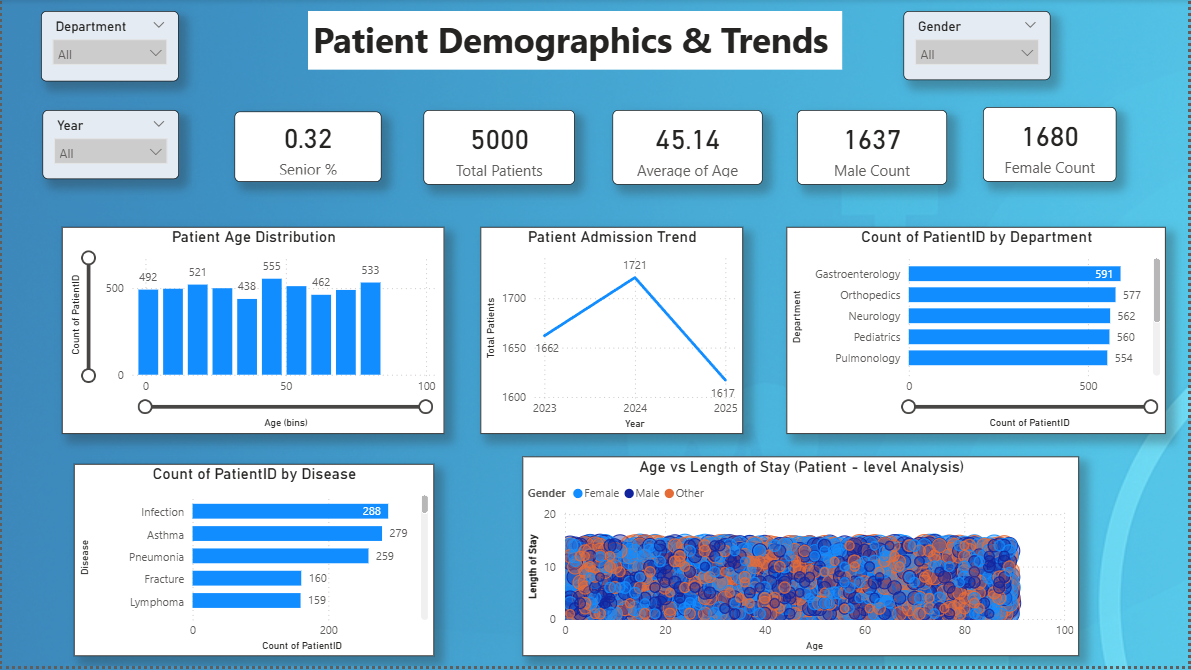

This screenshot's page, from the dashboard's own definition file:
{"tool":"powerbi","page":{"name":"Patient Demographics & Trends","canvas":[1280,720],"ordinal":1},"visuals":[{"type":"textbox","box":[330.3,13,576.4,63.1],"z":0},{"type":"slicer","fields":{"Values":["healthcare_project_5000.Department"]},"box":[42.1,13,149,76.1],"z":1000},{"type":"slicer","fields":{"Values":["healthcare_project_5000.Gender"]},"box":[973.2,13,158.7,74.5],"z":2000},{"type":"slicer","fields":{"Values":["healthcare_project_5000.Year"]},"box":[43.7,119.8,147.3,74.5],"z":3000},{"type":"card","fields":{"Values":["healthcare_project_5000.Total Patients"]},"box":[455,119.8,163.5,81],"z":4000},{"type":"card","fields":{"Values":["Avg(healthcare_project_5000.Age)"]},"box":[659,119.8,161.9,81],"z":5000},{"type":"card","fields":{"Values":["healthcare_project_5000.Senior %"]},"box":[251,121.4,158.7,76.1],"z":6000},{"type":"card","fields":{"Values":["healthcare_project_5000.Male Count"]},"box":[858.2,119.8,161.9,81],"z":7000},{"type":"card","fields":{"Values":["healthcare_project_5000.Female Count"]},"box":[1059,116.6,144.1,81],"z":8000},{"type":"clusteredColumnChart","title":"Patient Age Distribution","fields":{"Category":["healthcare_project_5000.Age (bins)"],"Y":["CountNonNull(healthcare_project_5000.PatientID)"]},"box":[64.8,246.1,412.9,223.5],"z":9000},{"type":"clusteredBarChart","fields":{"Y":["CountNonNull(healthcare_project_5000.PatientID)"],"Category":["healthcare_project_5000.Disease"]},"box":[77.7,502,388.6,207.3],"z":10000},{"type":"lineChart","title":"Patient Admission Trend","fields":{"Y":["healthcare_project_5000.Total Patients"],"Category":["healthcare_project_5000.Year"]},"box":[516.5,246.1,283.4,223.5],"z":11000},{"type":"scatterChart","title":"Age vs Length of Stay (Patient - level Analysis)","fields":{"X":["healthcare_project_5000.Age"],"Y":["healthcare_project_5000.LengthOfStay"],"Size":["Avg(healthcare_project_5000.TreatmentCost)"],"Series":["healthcare_project_5000.Gender"]},"box":[561.9,493.9,600.7,215.4],"z":12000},{"type":"barChart","fields":{"Category":["healthcare_project_5000.Department"],"Y":["CountNonNull(healthcare_project_5000.PatientID)"]},"box":[846.9,246.1,409.7,223.5],"z":13000}]}

Visuals, with their boxes in screenshot pixels (x1, y1, x2, y2), scaled from the page's 1280x720 canvas onto the 1191x670 screenshot:
textbox: (x1=307, y1=12, x2=844, y2=71)
slicer - healthcare_project_5000.Department: (x1=39, y1=12, x2=178, y2=83)
slicer - healthcare_project_5000.Gender: (x1=906, y1=12, x2=1053, y2=81)
slicer - healthcare_project_5000.Year: (x1=41, y1=111, x2=178, y2=181)
card - healthcare_project_5000.Total Patients: (x1=423, y1=111, x2=575, y2=187)
card - Avg(healthcare_project_5000.Age): (x1=613, y1=111, x2=764, y2=187)
card - healthcare_project_5000.Senior %: (x1=234, y1=113, x2=381, y2=184)
card - healthcare_project_5000.Male Count: (x1=799, y1=111, x2=949, y2=187)
card - healthcare_project_5000.Female Count: (x1=985, y1=109, x2=1119, y2=184)
"Patient Age Distribution" clusteredColumnChart: (x1=60, y1=229, x2=444, y2=437)
clusteredBarChart - CountNonNull(healthcare_project_5000.PatientID) x healthcare_project_5000.Disease: (x1=72, y1=467, x2=434, y2=660)
"Patient Admission Trend" lineChart: (x1=481, y1=229, x2=744, y2=437)
"Age vs Length of Stay (Patient - level Analysis)" scatterChart: (x1=523, y1=460, x2=1082, y2=660)
barChart - healthcare_project_5000.Department x CountNonNull(healthcare_project_5000.PatientID): (x1=788, y1=229, x2=1169, y2=437)
